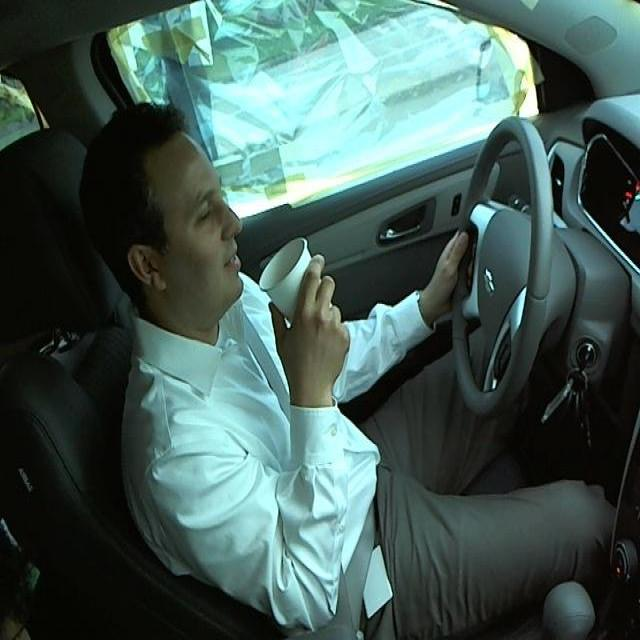drinking: (257, 234, 333, 352)
